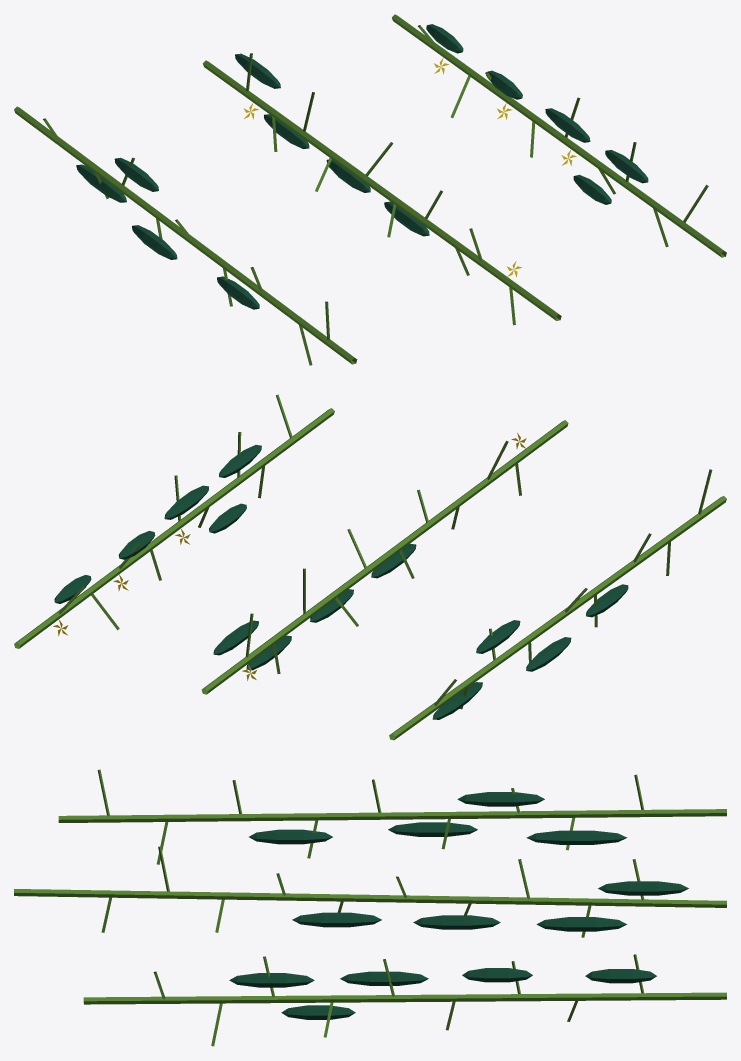
File: r27c3_stems.obj
3 views of the same model, one above another, from view 1: azimuth 30°, elevation 25°; view 2: azimuth 150°, elevation 25°; view 3: azimuth 270°, elevation 25° (orthographic).
Visible parts, largest first — view 1: r27c3_stems; view 2: r27c3_stems; view 3: r27c3_stems.
Part boxes in pixels (x1,y1,x2,y2): r27c3_stems: (14, 14, 726, 365); r27c3_stems: (14, 394, 726, 740); r27c3_stems: (14, 769, 726, 1046).
Bounding box in the file's own units: 1.4 × 0.3069 × 2.05.
